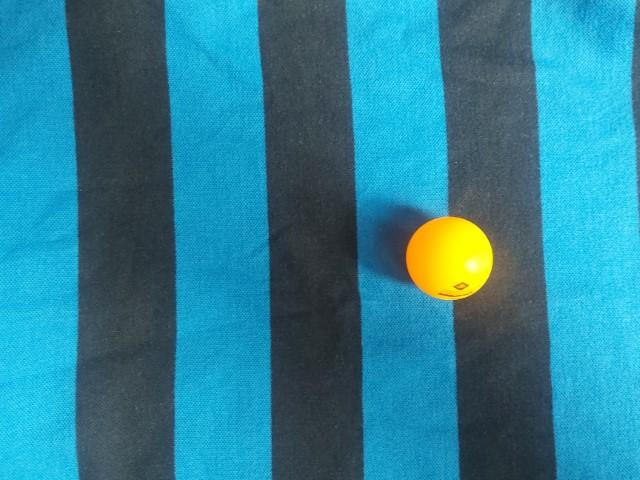oball: (140, 174, 238, 271)
